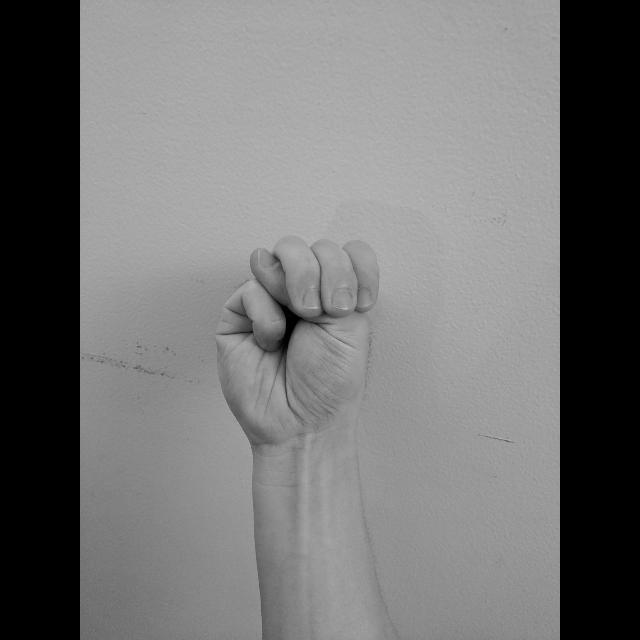M: (210, 230, 384, 442)
